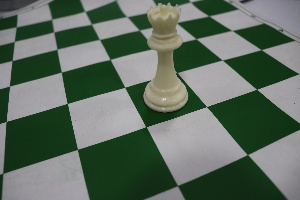white_queen: (137, 1, 195, 117)
